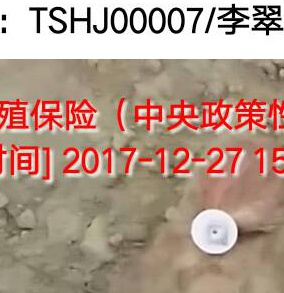text: (184, 199, 246, 263)
